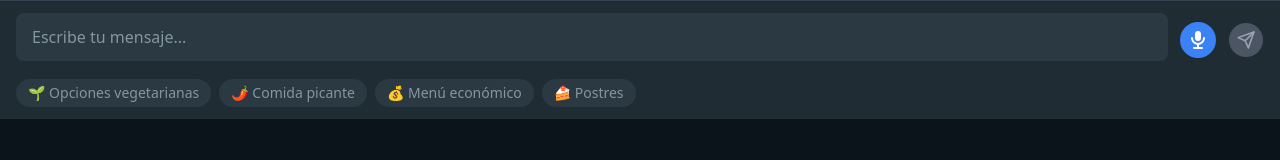
Test: InputArea Component › fills input when suggestion is clicked
The image size is (1280, 160).
Click the button "🌱 Opciones vegetarianas". click: (114, 93)
box: [16, 79, 211, 107]
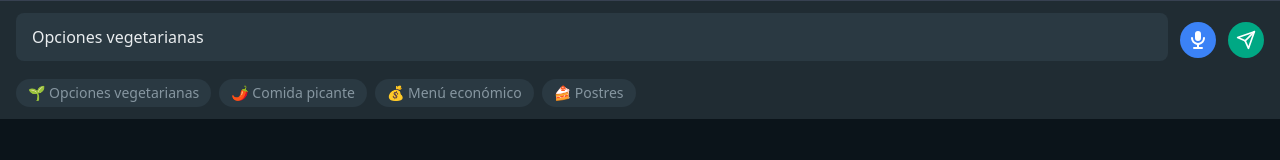
Check: the text box holds "Opciones vegetarianas", box [16, 13, 1168, 61]
